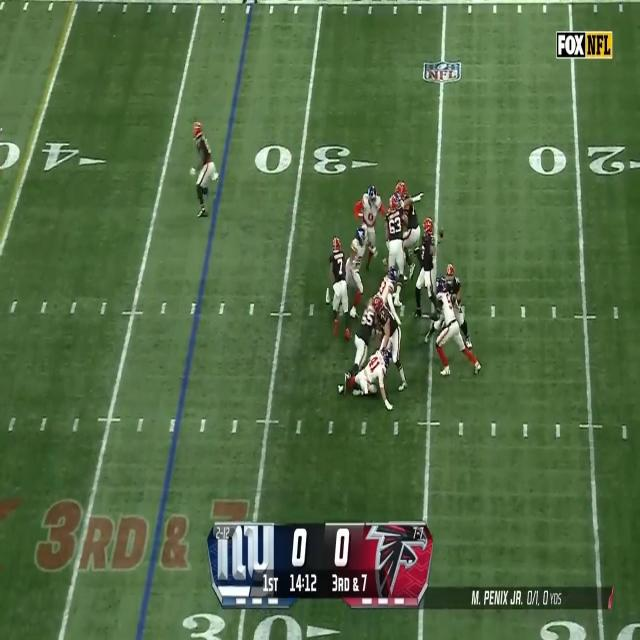Ball: (436, 221, 444, 241)
